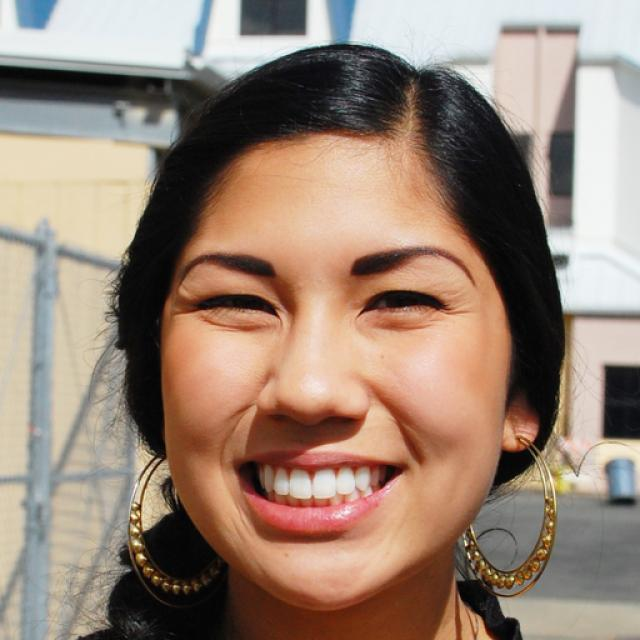happy: (152, 121, 508, 610)
